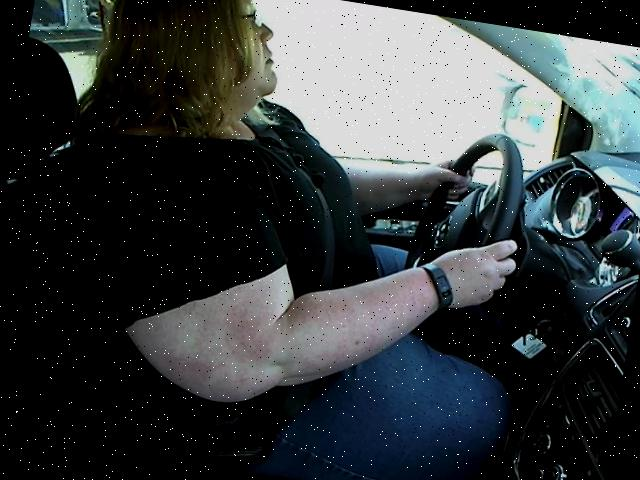c0 - Safe Driving: (41, 0, 562, 446)
